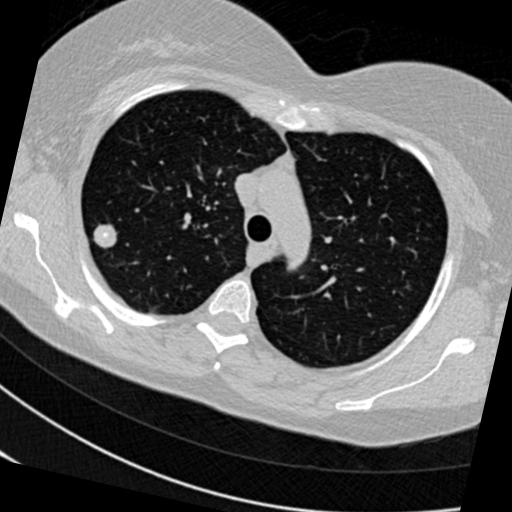nodule: (87, 218, 122, 253)
